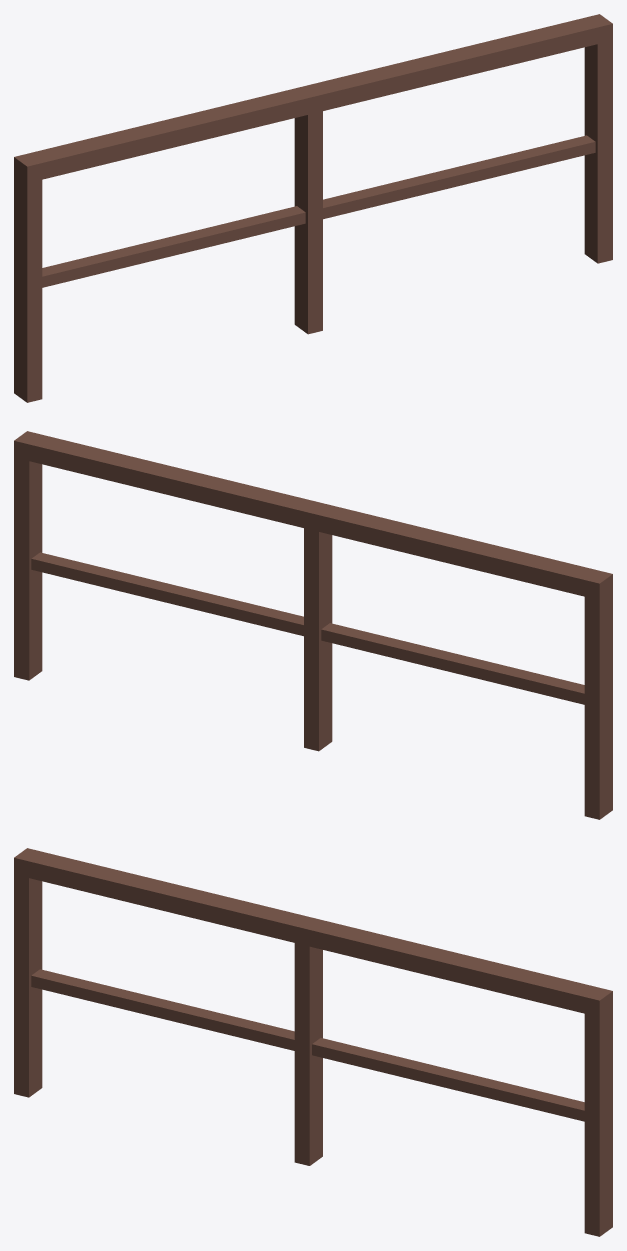
The model's file is ladder_006.fbx.
The picture shows the model from 3 angles, top to bottom: view 1: azimuth 30°, elevation 25°; view 2: azimuth 150°, elevation 25°; view 3: azimuth 330°, elevation 25°; orthographic projection.
Parts seen in each view (by area): view 1: ladder_006; view 2: ladder_006; view 3: ladder_006.
Boxes of the visible parts, left/top/right/bottom form: ladder_006: left=14, top=14, right=612, bottom=402; ladder_006: left=14, top=431, right=612, bottom=819; ladder_006: left=14, top=848, right=612, bottom=1236.
Bounding box in the file's own units: 203 × 7.93 × 78.1.
